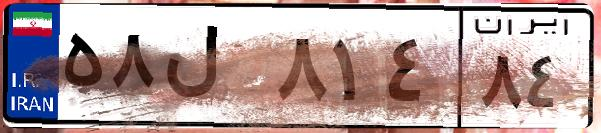1: (330, 28, 385, 110)
4: (385, 28, 445, 110), (525, 38, 570, 115)
5: (57, 26, 110, 100)
8: (270, 28, 330, 110), (475, 38, 525, 113), (110, 28, 158, 98)
ل: (158, 20, 270, 120)
